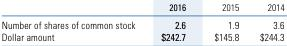table: (0, 0, 283, 43)
table column: (0, 0, 147, 43), (147, 0, 199, 43), (199, 0, 248, 43), (248, 0, 283, 43)
table column header: (0, 0, 283, 15)
table row: (0, 0, 283, 15), (0, 15, 283, 30), (0, 30, 283, 43)
